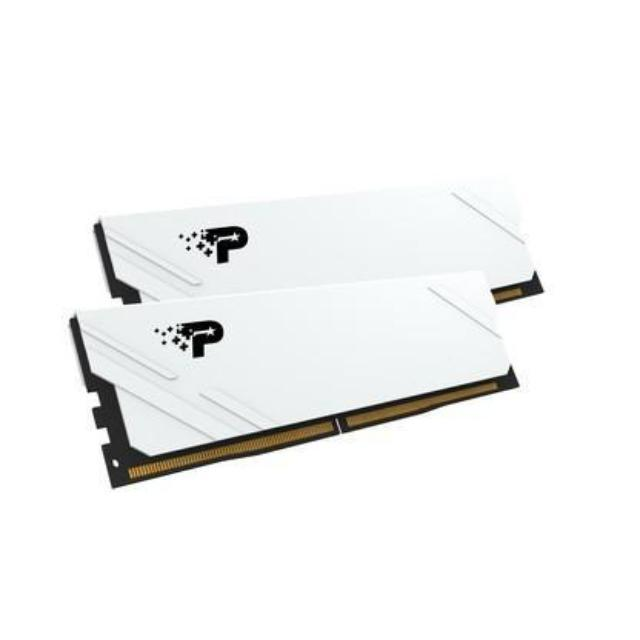RAM: (61, 178, 548, 500)
